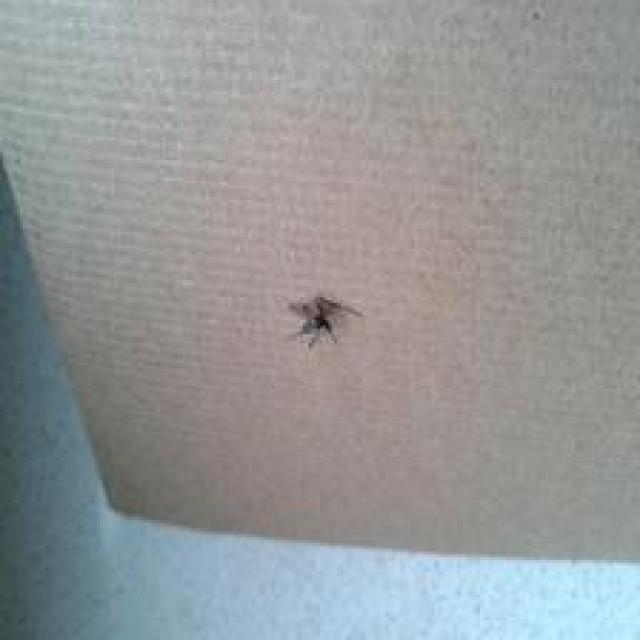Aedes albopictus: (287, 293, 364, 350)
